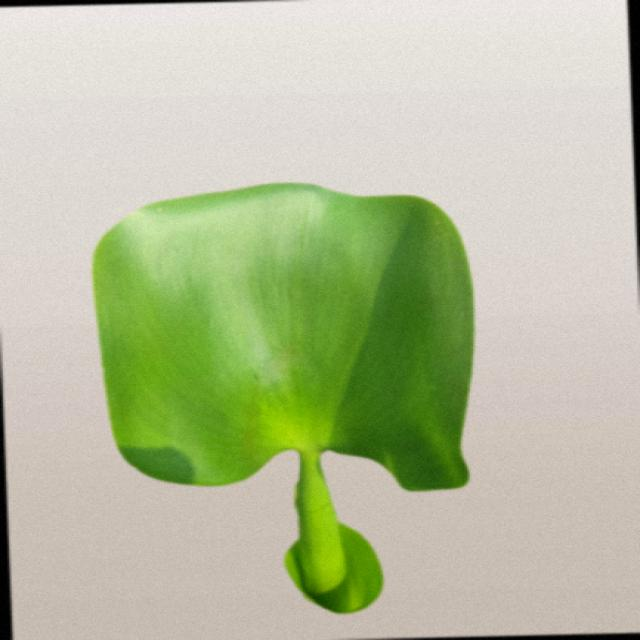daun sehat: (94, 184, 473, 614)
